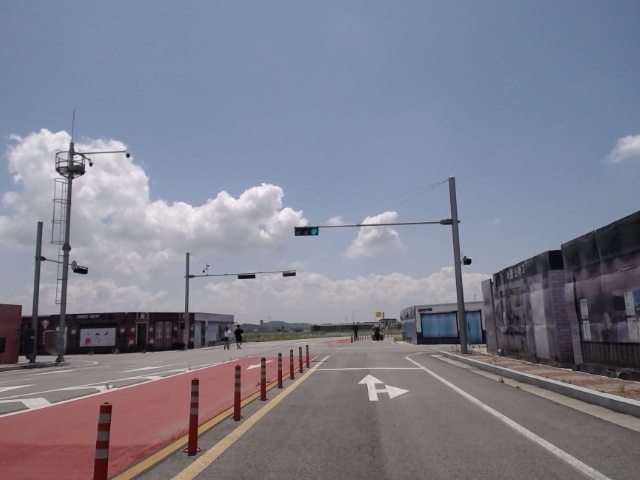green_3: (295, 225, 318, 236)
